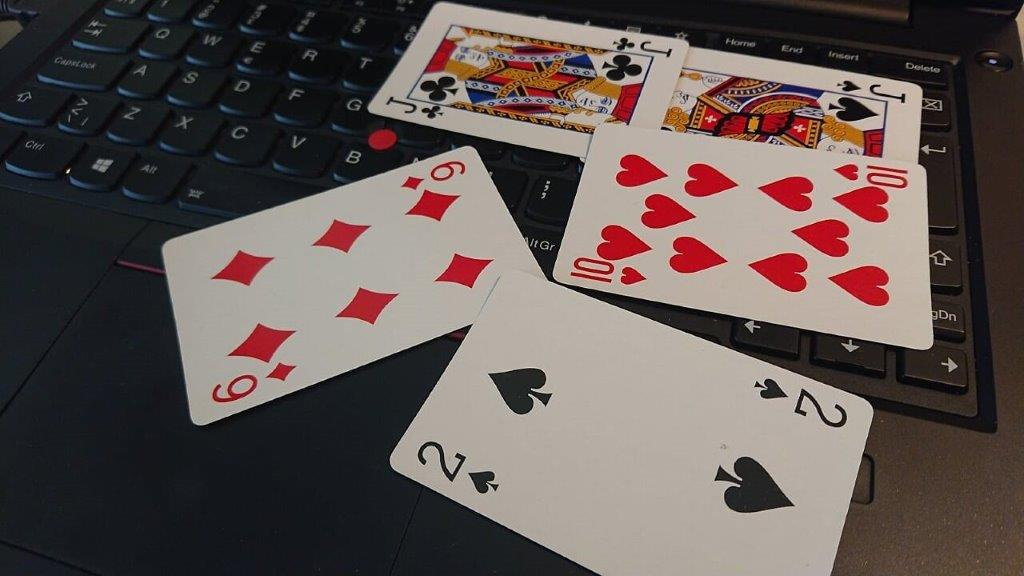2S: (413, 435, 504, 495)
JC: (383, 94, 443, 120)
